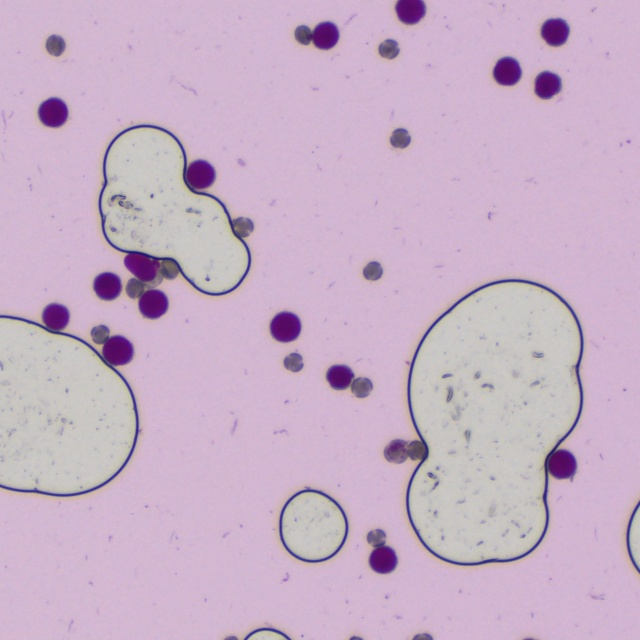intermediate: (383, 439, 409, 463)
non_viable: (390, 128, 410, 148), (378, 39, 399, 58), (46, 35, 65, 56), (231, 218, 252, 237), (283, 352, 303, 371), (363, 261, 382, 280), (407, 440, 425, 460), (126, 278, 144, 298), (349, 379, 370, 396), (160, 260, 178, 278), (368, 530, 384, 547), (296, 27, 312, 43), (92, 326, 107, 342), (412, 633, 431, 639)
viable: (126, 252, 158, 280), (270, 312, 300, 341), (38, 98, 67, 126), (493, 57, 521, 85), (546, 450, 574, 477), (103, 337, 131, 363), (140, 290, 166, 317), (541, 19, 568, 45), (188, 161, 213, 188), (395, 0, 424, 23), (535, 72, 560, 98), (95, 273, 120, 298), (370, 547, 395, 572), (43, 305, 67, 328), (314, 23, 337, 47), (327, 366, 352, 388)
